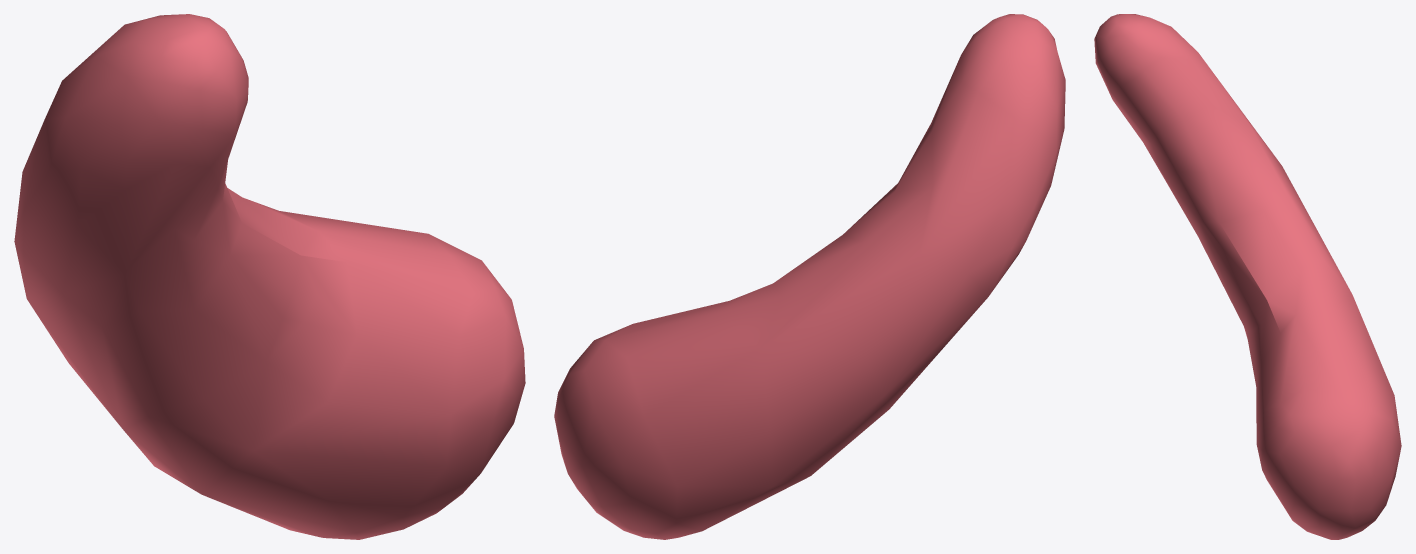
The model's file is fma50302_fj6089.glb.
The picture shows the model from 3 angles, left to right: view 1: azimuth 30°, elevation 25°; view 2: azimuth 150°, elevation 25°; view 3: azimuth 270°, elevation 25°; orthographic projection. The views are drawn at different scales.
Parts seen in each view (by area): view 1: FMA50302_FJ6089; view 2: FMA50302_FJ6089; view 3: FMA50302_FJ6089.
Boxes of the visible parts, left/top/right/bottom form: FMA50302_FJ6089: left=14, top=14, right=525, bottom=539; FMA50302_FJ6089: left=554, top=14, right=1065, bottom=539; FMA50302_FJ6089: left=1094, top=14, right=1401, bottom=539.
Size of the model in its own units: 0.0232 by 0.027 by 0.0181.
